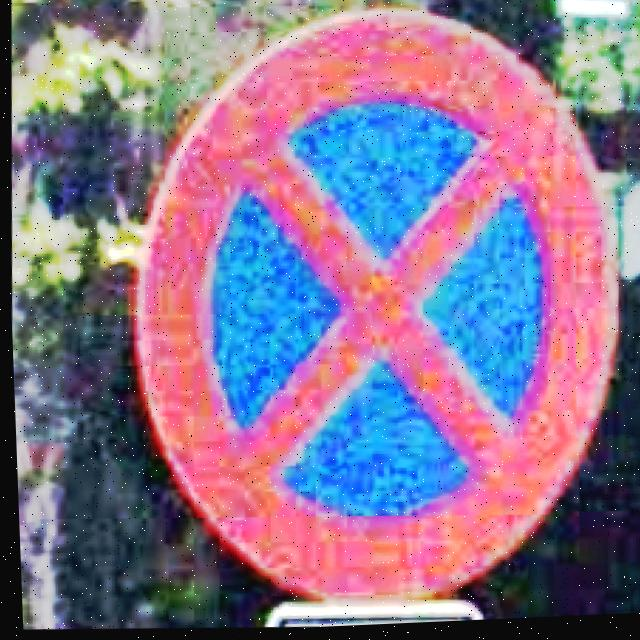nopark: (133, 14, 615, 606)
